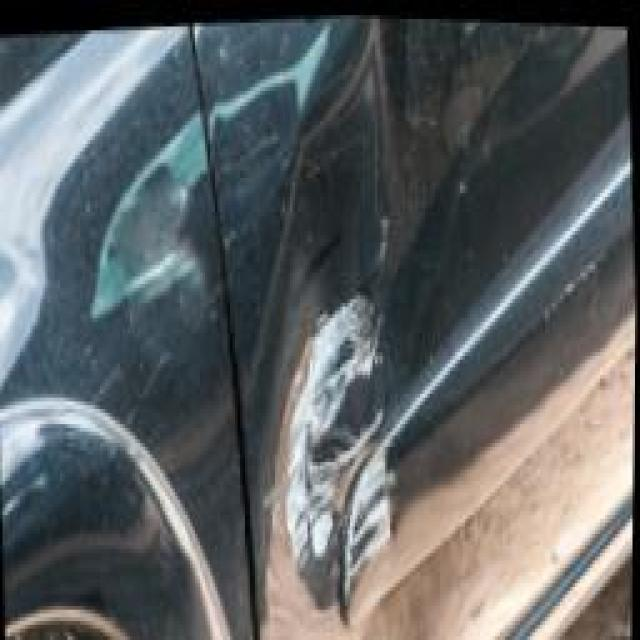Door: (190, 8, 478, 640)
Fender: (0, 53, 274, 640)
